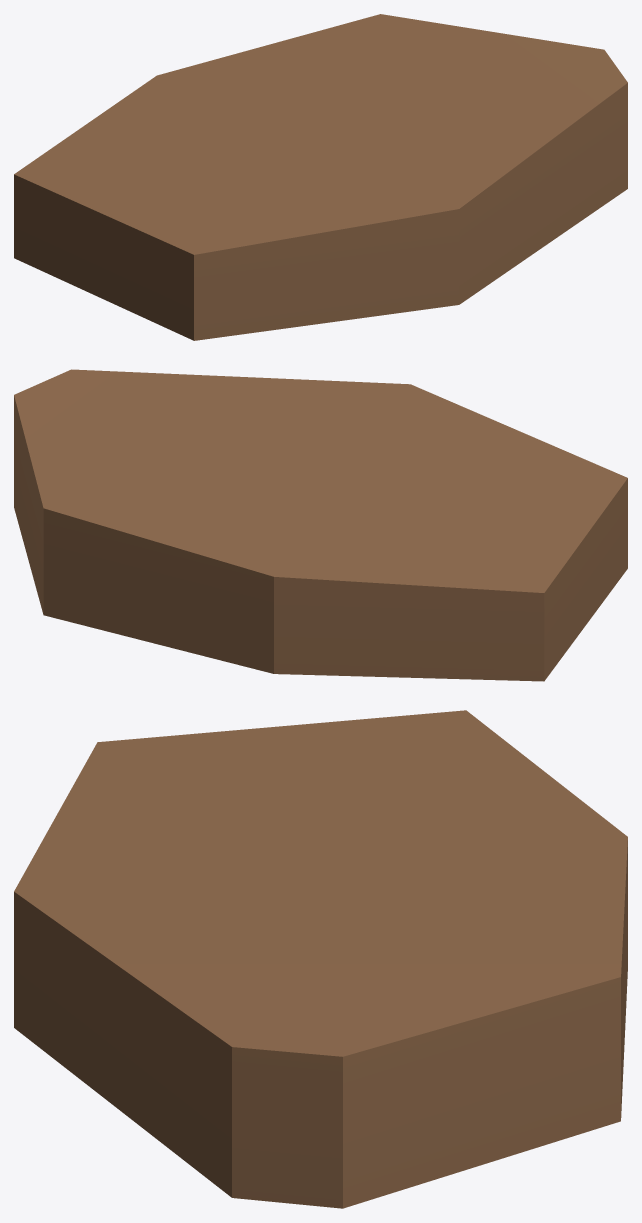
File: stone flat brown 3.fbx
The picture shows the model from 3 angles, top to bottom: view 1: azimuth 30°, elevation 25°; view 2: azimuth 150°, elevation 25°; view 3: azimuth 270°, elevation 25°; orthographic projection. The views are drawn at different scales.
Visible parts, largest first — view 1: stone flat brown 3; view 2: stone flat brown 3; view 3: stone flat brown 3.
Part boxes in pixels (<box>): stone flat brown 3: <box>14,14,627,340</box>; stone flat brown 3: <box>14,369,627,681</box>; stone flat brown 3: <box>14,710,627,1208</box>.
Size of the model in its own units: 61.45 by 11.47 by 42.05.
